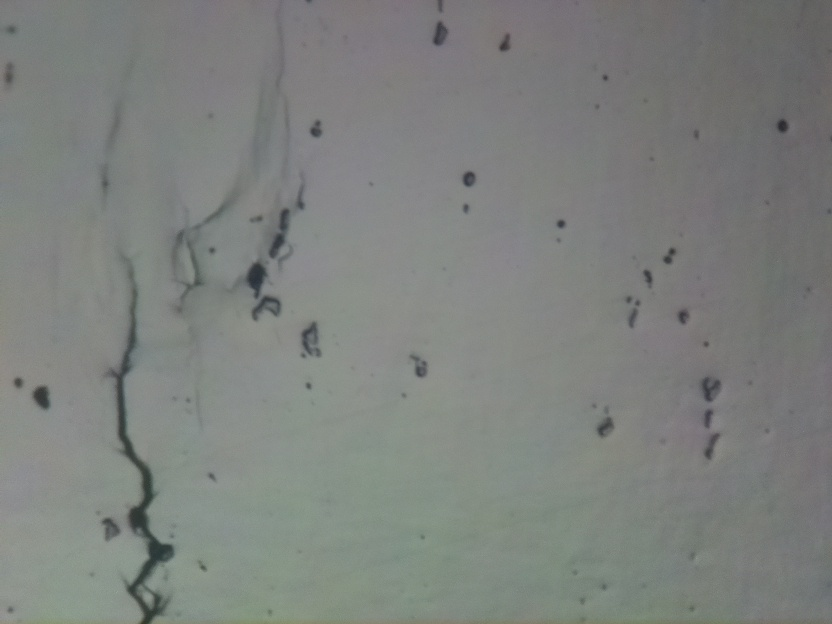crack: (108, 253, 180, 624), (103, 432, 109, 442)
